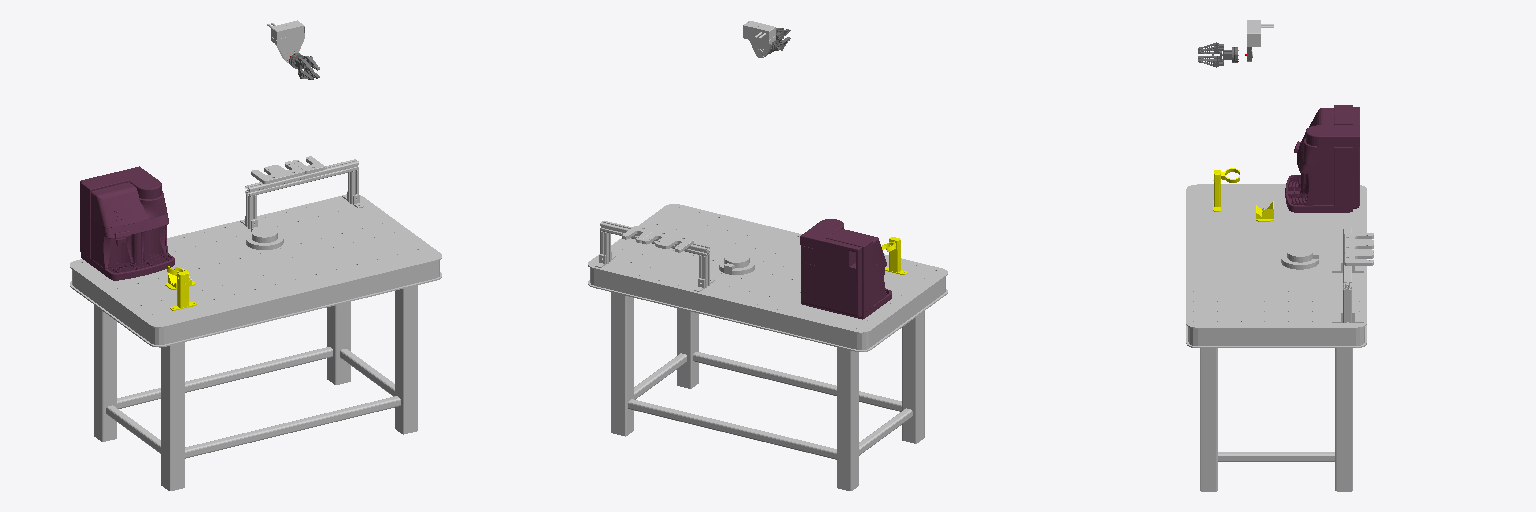
URDF robot description (aubo_e5):
<?xml version="1.0" ?>
<!-- =================================================================================== -->
<!-- |    This document was autogenerated by xacro from /home/mu/IVG2.0/aubo_ros2_ws/src/aubo_ros2_driver/aubo_moveit_config/config/aubo_e5.urdf.xacro | -->
<!-- |    EDITING THIS FILE BY HAND IS NOT RECOMMENDED                                 | -->
<!-- =================================================================================== -->
<robot name="aubo_e5">
  <!-- ===== 机械臂本体 (6-DOF) ===== -->
  <link name="base_link">
    <inertial>
      <origin rpy="0 0 0" xyz="-1.4795E-13 0.0015384 0.020951"/>
      <mass value="0.83419"/>
      <inertia ixx="0.0014414" ixy="7.8809E-15" ixz="8.5328E-16" iyy="0.0013542" iyz="-1.4364E-05" izz="0.0024659"/>
    </inertial>
    <visual>
      <origin rpy="0 0 0" xyz="0 0 0"/>
      <geometry>
        <mesh filename="package://aubo_description/meshes/visual/link0.dae"/>
      </geometry>
      <material name="">
        <color rgba="0.82 0.82 0.82 1"/>
      </material>
    </visual>
    <collision>
      <origin rpy="0 0 0" xyz="0 0 0"/>
      <geometry>
        <mesh filename="package://aubo_description/meshes/collision/link0.stl"/>
      </geometry>
    </collision>
  </link>
  <link name="shoulder_Link">
    <inertial>
      <origin rpy="0 0 0" xyz="0 0.0038 0.0006"/>
      <mass value="5.05"/>
      <inertia ixx="0.0148" ixy="0" ixz="0" iyy="0.0143" iyz="0" izz="0.0095"/>
    </inertial>
    <visual>
      <origin rpy="0 0 0" xyz="0 0 0"/>
      <geometry>
        <mesh filename="package://aubo_description/meshes/visual/link1.dae"/>
      </geometry>
      <material name="">
        <color rgba="0.82 0.82 0.82 1"/>
      </material>
    </visual>
    <collision>
      <origin rpy="0 0 0" xyz="0 0 0"/>
      <geometry>
        <mesh filename="package://aubo_description/meshes/collision/link1.stl"/>
      </geometry>
    </collision>
  </link>
  <joint name="shoulder_joint" type="revolute">
    <origin rpy="0 0 3.1415926535897932384626433832795" xyz="0 0 0.122"/>
    <parent link="base_link"/>
    <child link="shoulder_Link"/>
    <axis xyz="0 0 1"/>
    <limit effort="133" lower="-3.054326190990076759616458844855" start_stop="207" upper="3.054326190990076759616458844855" velocity="2.5964"/>
  </joint>
  <link name="upperArm_Link">
    <inertial>
      <origin rpy="0 0 0" xyz="0.2040 0 0.0196"/>
      <mass value="11.28"/>
      <inertia ixx="0.0305" ixy="0" ixz="0" iyy="0.4505" iyz="0" izz="0.4400"/>
    </inertial>
    <visual>
      <origin rpy="0 0 0" xyz="0 0 0"/>
      <geometry>
        <mesh filename="package://aubo_description/meshes/visual/link2.dae"/>
      </geometry>
      <material name="">
        <color rgba="0.82 0.82 0.82 1"/>
      </material>
    </visual>
    <collision>
      <origin rpy="0 0 0" xyz="0 0 0"/>
      <geometry>
        <mesh filename="package://aubo_description/meshes/collision/link2.stl"/>
      </geometry>
    </collision>
  </link>
  <joint name="upperArm_joint" type="revolute">
    <origin rpy="-1.5707963267948966192313216916398 -1.5707963267948966192313216916398 0" xyz="0 0.1215 0"/>
    <parent link="shoulder_Link"/>
    <child link="upperArm_Link"/>
    <axis xyz="0 0 1"/>
    <limit effort="133" lower="-3.054326190990076759616458844855" start_stop="207" upper="3.054326190990076759616458844855" velocity="2.5964"/>
  </joint>
  <link name="foreArm_Link">
    <inertial>
      <origin rpy="0 0 0" xyz="0.2699 0 0.0992"/>
      <mass value="2.88"/>
      <inertia ixx="0.0033" ixy="0" ixz="0" iyy="0.0575" iyz="0" izz="0.0565"/>
    </inertial>
    <visual>
      <origin rpy="0 0 0" xyz="0 0 0"/>
      <geometry>
        <mesh filename="package://aubo_description/meshes/visual/link3.dae"/>
      </geometry>
      <material name="">
        <color rgba="0.82 0.82 0.82 1"/>
      </material>
    </visual>
    <collision>
      <origin rpy="0 0 0" xyz="0 0 0"/>
      <geometry>
        <mesh filename="package://aubo_description/meshes/collision/link3.stl"/>
      </geometry>
    </collision>
  </link>
  <joint name="foreArm_joint" type="revolute">
    <origin rpy="-3.1415926535897932384626433832795 0 0" xyz="0.408 0 0"/>
    <parent link="upperArm_Link"/>
    <child link="foreArm_Link"/>
    <axis xyz="0 0 1"/>
    <limit effort="133" lower="-3.054326190990076759616458844855" start_stop="207" upper="3.054326190990076759616458844855" velocity="2.5964"/>
  </joint>
  <link name="wrist1_Link">
    <inertial>
      <origin rpy="0 0 0" xyz="0 -0.0997 -0.0780"/>
      <mass value="1.62"/>
      <inertia ixx="0.0023" ixy="0" ixz="0" iyy="0.0013" iyz="0" izz="0.0022"/>
    </inertial>
    <visual>
      <origin rpy="0 0 0" xyz="0 0 0"/>
      <geometry>
        <mesh filename="package://aubo_description/meshes/visual/link4.dae"/>
      </geometry>
      <material name="">
        <color rgba="0.82 0.82 0.82 1"/>
      </material>
    </visual>
    <collision>
      <origin rpy="0 0 0" xyz="0 0 0"/>
      <geometry>
        <mesh filename="package://aubo_description/meshes/collision/link4.stl"/>
      </geometry>
    </collision>
  </link>
  <joint name="wrist1_joint" type="revolute">
    <origin rpy="3.1415926535897932384626433832795 0 1.5707963267948966192313216916398" xyz="0.376 0 0"/>
    <parent link="foreArm_Link"/>
    <child link="wrist1_Link"/>
    <axis xyz="0 0 1"/>
    <limit effort="13.5" lower="-3.054326190990076759616458844855" start_stop="34" upper="3.054326190990076759616458844855" velocity="3.1105"/>
  </joint>
  <link name="wrist2_Link">
    <inertial>
      <origin rpy="0 0 0" xyz="0 -0.0028 -0.0030"/>
      <mass value="1.62"/>
      <inertia ixx="0.0023" ixy="0" ixz="0" iyy="0.0013" iyz="0" izz="0.0022"/>
    </inertial>
    <visual>
      <origin rpy="0 0 0" xyz="0 0 0"/>
      <geometry>
        <mesh filename="package://aubo_description/meshes/visual/link5.dae"/>
      </geometry>
      <material name="">
        <color rgba="0.82 0.82 0.82 1"/>
      </material>
    </visual>
    <collision>
      <origin rpy="0 0 0" xyz="0 0 0"/>
      <geometry>
        <mesh filename="package://aubo_description/meshes/collision/link5.stl"/>
      </geometry>
    </collision>
  </link>
  <joint name="wrist2_joint" type="revolute">
    <origin rpy="-1.5707963267948966192313216916398 0 0" xyz="0 0.1025 0"/>
    <parent link="wrist1_Link"/>
    <child link="wrist2_Link"/>
    <axis xyz="0 0 1"/>
    <limit effort="13.5" lower="-3.054326190990076759616458844855" start_stop="34" upper="3.054326190990076759616458844855" velocity="3.1105"/>
  </joint>
  <link name="wrist3_Link">
    <inertial>
      <origin rpy="0 0 0" xyz="0 0 -0.0442"/>
      <mass value="0.5"/>
      <inertia ixx="0.00139395" ixy="0" ixz="0" iyy="0.00139882" iyz="0" izz="0.00224092"/>
    </inertial>
    <visual>
      <origin rpy="0 0 0" xyz="0 0 0"/>
      <geometry>
        <mesh filename="package://aubo_description/meshes/visual/link6.dae"/>
      </geometry>
      <material name="">
        <color rgba="0.82 0.82 0.82 1"/>
      </material>
    </visual>
    <collision>
      <origin rpy="0 0 0" xyz="0 0 0"/>
      <geometry>
        <mesh filename="package://aubo_description/meshes/collision/link6.stl"/>
      </geometry>
    </collision>
  </link>
  <joint name="wrist3_joint" type="revolute">
    <origin rpy="1.5707963267948966192313216916398 0 1.7907E-15" xyz="0 -0.094 0"/>
    <parent link="wrist2_Link"/>
    <child link="wrist3_Link"/>
    <axis xyz="0 0 1"/>
    <limit effort="13.5" lower="-3.054326190990076759616458844855" start_stop="34" upper="3.054326190990076759616458844855" velocity="3.1105"/>
  </joint>
  <link name="world"/>
  <!-- ===== 底座（咖啡机总装模型 pedestal_Link） ===== -->
  <link name="pedestal_Link">
    <inertial>
      <origin rpy="0 0 0" xyz="0.0024005 -0.14873 -0.0020194"/>
      <mass value="180.93"/>
      <inertia ixx="10.702" ixy="6.7618E-17" ixz="3.0187E-14" iyy="41.01" iyz="1.466E-07" izz="32.457"/>
    </inertial>
    <visual>
      <origin rpy="0 0 0" xyz="0 0 0"/>
      <geometry>
        <mesh filename="package://aubo_description/meshes/visual/pedestal_link.stl"/>
      </geometry>
      <material name="">
        <color rgba="0.82 0.82 0.82 1"/>
      </material>
    </visual>
    <collision>
      <origin rpy="0 0 0" xyz="0 0 0"/>
      <geometry>
        <mesh filename="package://aubo_description/meshes/collision/pedestal_link.stl"/>
      </geometry>
    </collision>
  </link>
  <joint name="world_to_pedestal" type="fixed">
    <parent link="world"/>
    <child link="pedestal_Link"/>
    <origin rpy="0.0 0.0 0.0" xyz="0.0 0.0 0.0"/>
  </joint>
  <joint name="base_joint" type="fixed">
    <origin rpy="0 0 0" xyz="0.10483 0.10483 0.028"/>
    <parent link="pedestal_Link"/>
    <child link="base_link"/>
  </joint>
  <!-- ===== 咖啡机总装模型配件 ===== -->
  <link name="cup0_Link">
    <inertial>
      <origin rpy="0 0 0" xyz="0.0459046653140415 0.0335578409178754 0.00298286778797363"/>
      <mass value="1.42763211505643"/>
      <inertia ixx="0.00133864759857838" ixy="-0.000153798571779387" ixz="-3.31742934007893E-05" iyy="0.00208448111254178" iyz="-3.67284842420613E-05" izz="0.0011896985575748"/>
    </inertial>
    <visual>
      <origin rpy="0 0 0" xyz="0 0 0"/>
      <geometry>
        <mesh filename="package://aubo_description/meshes/visual/cup0_link.stl"/>
      </geometry>
      <material name="">
        <color rgba="1 1 0 1"/>
      </material>
    </visual>
    <collision>
      <origin rpy="0 0 0" xyz="0 0 0"/>
      <geometry>
        <mesh filename="package://aubo_description/meshes/collision/cup0_link.stl"/>
      </geometry>
    </collision>
  </link>
  <joint name="cup0_joint" type="fixed">
    <origin rpy="1.5708 0 1.5708" xyz="-0.4225 -0.0925 -0.012"/>
    <parent link="pedestal_Link"/>
    <child link="cup0_Link"/>
  </joint>
  <link name="lizhu_Link">
    <inertial>
      <origin rpy="0 0 0" xyz="0.012277 0.082104 1.7053E-05"/>
      <mass value="0.86598"/>
      <inertia ixx="0.0014347" ixy="1.5778E-05" ixz="1.1895E-08" iyy="0.00066764" iyz="3.1238E-05" izz="0.0012088"/>
    </inertial>
    <visual>
      <origin rpy="0 0 0" xyz="0 0 0"/>
      <geometry>
        <mesh filename="package://aubo_description/meshes/visual/lizhu_link.stl"/>
      </geometry>
      <material name="">
        <color rgba="1 1 0 1"/>
      </material>
    </visual>
    <collision>
      <origin rpy="0 0 0" xyz="0 0 0"/>
      <geometry>
        <mesh filename="package://aubo_description/meshes/collision/lizhu_link.stl"/>
      </geometry>
    </collision>
  </link>
  <joint name="lizhu_joint" type="fixed">
    <origin rpy="1.5708 0 1.5708" xyz="-0.525 -0.2625 0.006"/>
    <parent link="pedestal_Link"/>
    <child link="lizhu_Link"/>
  </joint>
  <link name="coffee_Link">
    <inertial>
      <origin rpy="0 0 0" xyz="0.01588 0.20584 0.0021911"/>
      <mass value="91.454"/>
      <inertia ixx="0.89876" ixy="0.0020091" ixz="-0.10749" iyy="1.0151" iyz="0.023803" izz="0.44104"/>
    </inertial>
    <visual>
      <origin rpy="0 0 0" xyz="0 0 0"/>
      <geometry>
        <mesh filename="package://aubo_description/meshes/visual/coffee_link.stl"/>
      </geometry>
      <material name="">
        <color rgba="0.42745 0.24706 0.35686 1"/>
      </material>
    </visual>
    <collision>
      <origin rpy="0 0 0" xyz="0 0 0"/>
      <geometry>
        <mesh filename="package://aubo_description/meshes/collision/coffee_link.stl"/>
      </geometry>
    </collision>
  </link>
  <joint name="coffee_joint" type="fixed">
    <origin rpy="1.5708 0 1.5708" xyz="-0.53995 0.20318 0.046"/>
    <parent link="pedestal_Link"/>
    <child link="coffee_Link"/>
  </joint>
  <!-- ===== 末端执行器: 相机 ===== -->
  <link name="camera_Link">
    <inertial>
      <origin rpy="0 0 0" xyz="-0.0005963 0.085972 -0.026401"/>
      <mass value="0.72743"/>
      <inertia ixx="0.00064649" ixy="2.7688E-06" ixz="-2.0272E-05" iyy="0.0013072" iyz="8.2399E-05" izz="0.0014971"/>
    </inertial>
    <visual>
      <origin rpy="0 0 0" xyz="0 0 0"/>
      <geometry>
        <mesh filename="package://aubo_description/meshes/visual/camera_link.stl"/>
      </geometry>
      <material name="">
        <color rgba="0.82 0.82 0.82 1"/>
      </material>
    </visual>
    <collision>
      <origin rpy="0 0 0" xyz="0 0 0"/>
      <geometry>
        <mesh filename="package://aubo_description/meshes/collision/camera_link.stl"/>
      </geometry>
    </collision>
  </link>
  <joint name="camera_joint" type="fixed">
    <origin rpy="0.0 0.0 0.0" xyz="0.0 0.0 0.020"/>
    <parent link="wrist3_Link"/>
    <child link="camera_Link"/>
  </joint>
  <!-- ===== 末端执行器: 快换法兰 ===== -->
  <link name="kuaihuan_Link">
    <inertial>
      <origin rpy="0 0 0" xyz="-0.00074639 7.4616E-05 0.0097884"/>
      <mass value="0.21939"/>
      <inertia ixx="6.3771E-05" ixy="4.2875E-07" ixz="-1.7848E-07" iyy="6.9403E-05" iyz="-4.5085E-07" izz="0.0001149"/>
    </inertial>
    <visual>
      <origin rpy="0 0 0" xyz="0 0 0"/>
      <geometry>
        <mesh filename="package://aubo_description/meshes/visual/kuaihuan_link.stl"/>
      </geometry>
      <material name="">
        <color rgba="0.82 0.82 0.82 1"/>
      </material>
    </visual>
    <collision>
      <origin rpy="0 0 0" xyz="0 0 0"/>
      <geometry>
        <mesh filename="package://aubo_description/meshes/collision/kuaihuan_link.stl"/>
      </geometry>
    </collision>
  </link>
  <joint name="kuaihuan_joint" type="fixed">
    <origin rpy="0 0 3.1416" xyz="0 0 0.0215"/>
    <parent link="camera_Link"/>
    <child link="kuaihuan_Link"/>
  </joint>
  <link name="gripper2_Link">
    <visual>
      <origin rpy="0 0 0" xyz="0 0 0"/>
      <geometry>
        <mesh filename="package://aubo_description/meshes/visual/gripper2_link.stl"/>
      </geometry>
      <material name="gripper2_material">
        <color rgba="0.5 0.5 0.5 1.0"/>
      </material>
    </visual>
    <collision>
      <origin rpy="0 0 0" xyz="0 0 0"/>
      <geometry>
        <mesh filename="package://aubo_description/meshes/collision/gripper2_link.stl"/>
      </geometry>
    </collision>
  </link>
  <joint name="kuaihuan_to_gripper2" type="fixed">
    <parent link="kuaihuan_Link"/>
    <child link="gripper2_Link"/>
    <origin rpy="0 0 0" xyz="0 0 0.02"/>
  </joint>
  <!-- Tool Center Point -->
  <link name="tool_tcp">
    <visual>
      <origin rpy="0 0 0" xyz="0 0 0"/>
      <geometry>
        <sphere radius="0.005"/>
      </geometry>
      <material name="tcp_marker">
        <color rgba="1.0 0.0 0.0 1.0"/>
      </material>
    </visual>
  </link>
  <joint name="wrist3_to_tcp" type="fixed">
    <parent link="wrist3_Link"/>
    <child link="tool_tcp"/>
    <origin rpy="0.0 0.0 0.0" xyz="0.0 0.0 0.0235"/>
  </joint>
  <transmission name="shoulder_joint_trans">
    <type>transmission_interface/SimpleTransmission</type>
    <joint name="shoulder_joint">
      <hardwareInterface>hardware_interface/PositionJointInterface</hardwareInterface>
    </joint>
    <actuator name="shoulder_joint_motor">
      <mechanicalReduction>1</mechanicalReduction>
    </actuator>
  </transmission>
  <transmission name="upperArm_joint_trans">
    <type>transmission_interface/SimpleTransmission</type>
    <joint name="upperArm_joint">
      <hardwareInterface>hardware_interface/PositionJointInterface</hardwareInterface>
    </joint>
    <actuator name="upperArm_joint_motor">
      <mechanicalReduction>1</mechanicalReduction>
    </actuator>
  </transmission>
  <transmission name="foreArm_joint_trans">
    <type>transmission_interface/SimpleTransmission</type>
    <joint name="foreArm_joint">
      <hardwareInterface>hardware_interface/PositionJointInterface</hardwareInterface>
    </joint>
    <actuator name="foreArm_joint_motor">
      <mechanicalReduction>1</mechanicalReduction>
    </actuator>
  </transmission>
  <transmission name="wrist1_joint_trans">
    <type>transmission_interface/SimpleTransmission</type>
    <joint name="wrist1_joint">
      <hardwareInterface>hardware_interface/PositionJointInterface</hardwareInterface>
    </joint>
    <actuator name="wrist1_joint_motor">
      <mechanicalReduction>1</mechanicalReduction>
    </actuator>
  </transmission>
  <transmission name="wrist2_joint_trans">
    <type>transmission_interface/SimpleTransmission</type>
    <joint name="wrist2_joint">
      <hardwareInterface>hardware_interface/PositionJointInterface</hardwareInterface>
    </joint>
    <actuator name="wrist2_joint_motor">
      <mechanicalReduction>1</mechanicalReduction>
    </actuator>
  </transmission>
  <transmission name="wrist3_joint_trans">
    <type>transmission_interface/SimpleTransmission</type>
    <joint name="wrist3_joint">
      <hardwareInterface>hardware_interface/PositionJointInterface</hardwareInterface>
    </joint>
    <actuator name="wrist3_joint_motor">
      <mechanicalReduction>1</mechanicalReduction>
    </actuator>
  </transmission>
  <ros2_control name="auboHardwareInterface" type="system">
    <hardware>
      <plugin>fake_components/GenericSystem</plugin>
      <param name="fake_sensor_commands">False</param>
      <param name="state_following_offset">0.0</param>
    </hardware>
    <joint name="shoulder_joint">
      <command_interface name="position">
        <param name="min">-3.05</param>
        <param name="max">3.05</param>
      </command_interface>
      <state_interface name="position"/>
      <state_interface name="velocity"/>
    </joint>
    <joint name="upperArm_joint">
      <command_interface name="position">
        <param name="min">-3.05</param>
        <param name="max">3.05</param>
      </command_interface>
      <state_interface name="position"/>
      <state_interface name="velocity"/>
    </joint>
    <joint name="foreArm_joint">
      <command_interface name="position">
        <param name="min">-3.05</param>
        <param name="max">3.05</param>
      </command_interface>
      <state_interface name="position"/>
      <state_interface name="velocity"/>
    </joint>
    <joint name="wrist1_joint">
      <command_interface name="position">
        <param name="min">-3.05</param>
        <param name="max">3.05</param>
      </command_interface>
      <state_interface name="position"/>
      <state_interface name="velocity"/>
    </joint>
    <joint name="wrist2_joint">
      <command_interface name="position">
        <param name="min">-3.05</param>
        <param name="max">3.05</param>
      </command_interface>
      <state_interface name="position"/>
      <state_interface name="velocity"/>
    </joint>
    <joint name="wrist3_joint">
      <command_interface name="position">
        <param name="min">-3.05</param>
        <param name="max">3.05</param>
      </command_interface>
      <state_interface name="position"/>
      <state_interface name="velocity"/>
    </joint>
  </ros2_control>
</robot>

--- Facts derived from the render (not from the file) ---
3 views of the same robot in one strip: view 1: azimuth 30°, elevation 25°; view 2: azimuth 150°, elevation 25°; view 3: azimuth 270°, elevation 25° (orthographic).
Robot: aubo_e5 — 16 links, 15 joints (6 revolute, 9 fixed); root link world; default pose: every joint at zero.
Links seen in each view (by area): view 1: pedestal_Link, coffee_Link, camera_Link, base_link, lizhu_Link, gripper2_Link; view 2: pedestal_Link, coffee_Link, camera_Link, base_link; view 3: pedestal_Link, coffee_Link, base_link, gripper2_Link.
Boxes of the visible links, x1,y1,x2,y2 form: pedestal_Link: (70, 156, 441, 490); coffee_Link: (80, 166, 174, 280); camera_Link: (267, 20, 304, 62); base_link: (246, 226, 283, 249); lizhu_Link: (167, 266, 196, 310); gripper2_Link: (289, 53, 319, 79); pedestal_Link: (588, 204, 947, 490); coffee_Link: (800, 219, 891, 319); camera_Link: (743, 21, 775, 57); base_link: (719, 252, 754, 274); pedestal_Link: (1186, 184, 1373, 491); coffee_Link: (1285, 105, 1359, 212); base_link: (1281, 246, 1318, 269); gripper2_Link: (1198, 42, 1238, 67).
Size in the robot's own frame: 1.5 by 0.83 by 2.02 metres.
7 mesh visuals loaded from 14 distinct referenced files (6 binary STL, 1 Collada DAE); not drawn: 7 (reference not matched to a file when rendering).
